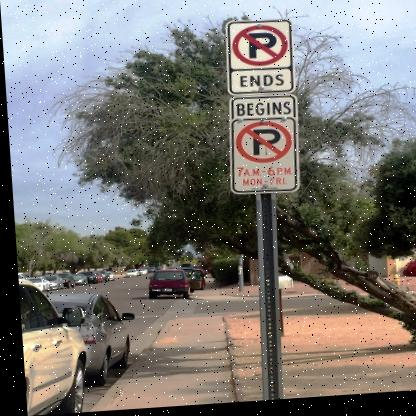No parking: (228, 21, 292, 66), (234, 119, 291, 166)
